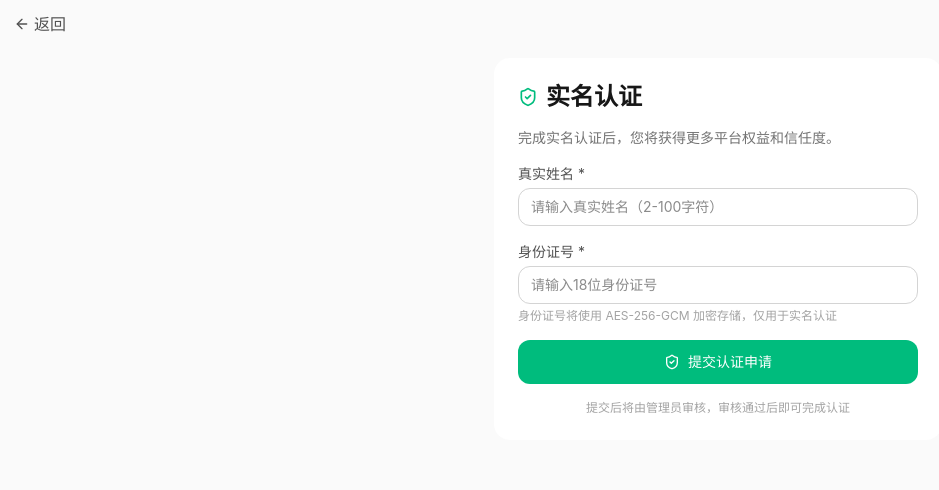
Profile/Verify 实名认证页 › 身份证号格式错误时显示"身份证号格式不正确"
expect the button "提交认证申请" is shown: met, box [518, 340, 918, 384]
Type "张三" into the field with placeholder "请输入真实姓名（2-100字符）".
click(718, 207); type("张三")  # box [518, 188, 918, 226]
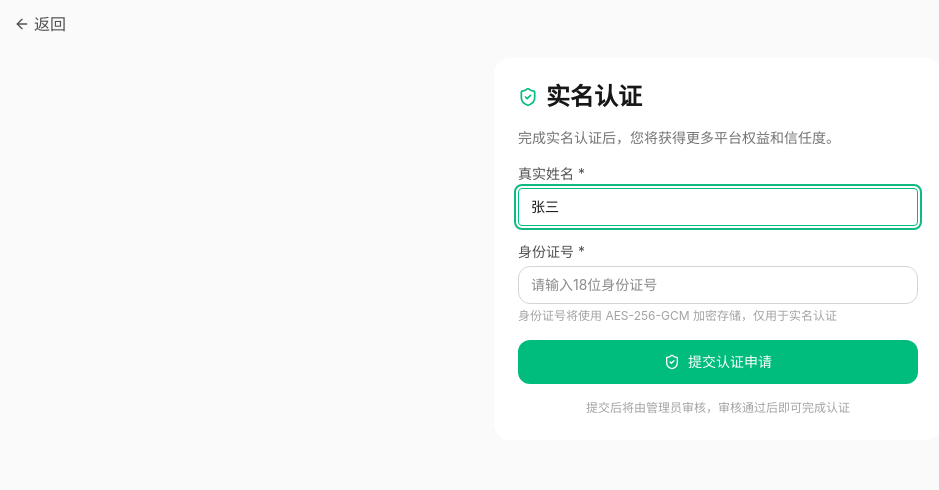
身份证号格式错误（位数不足）
Type "12345" into the field with placeholder "请输入18位身份证号".
click(718, 285); type("12345")  # box [518, 266, 918, 304]
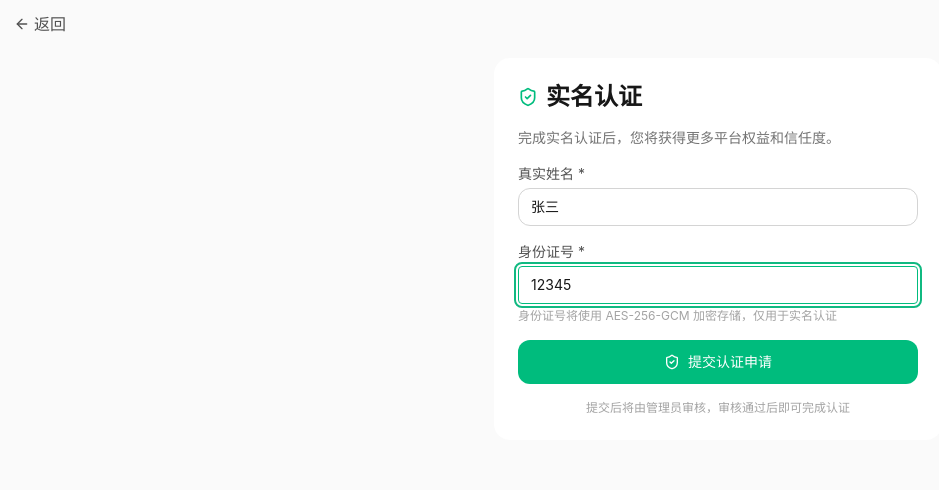
Click the button "提交认证申请".
click(718, 362)  # box [518, 340, 918, 384]
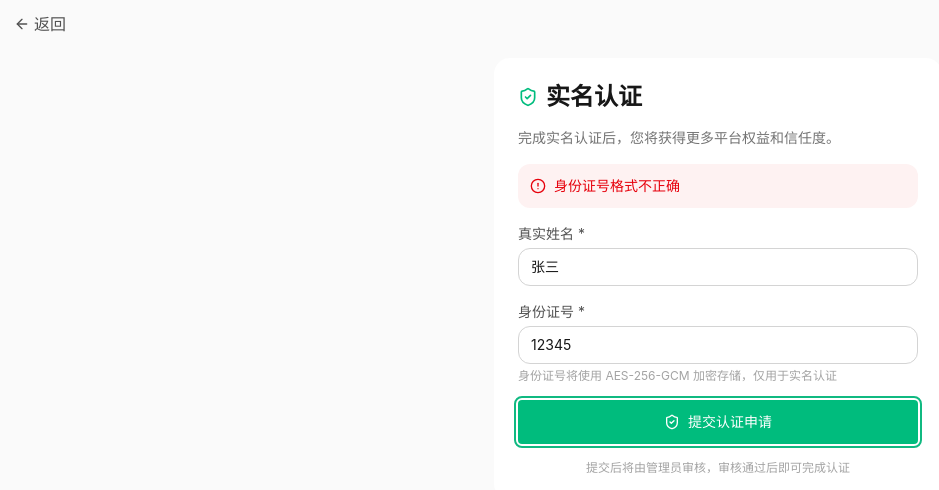
expect the text "身份证号格式不正确" is shown: met, box [518, 164, 918, 208]
